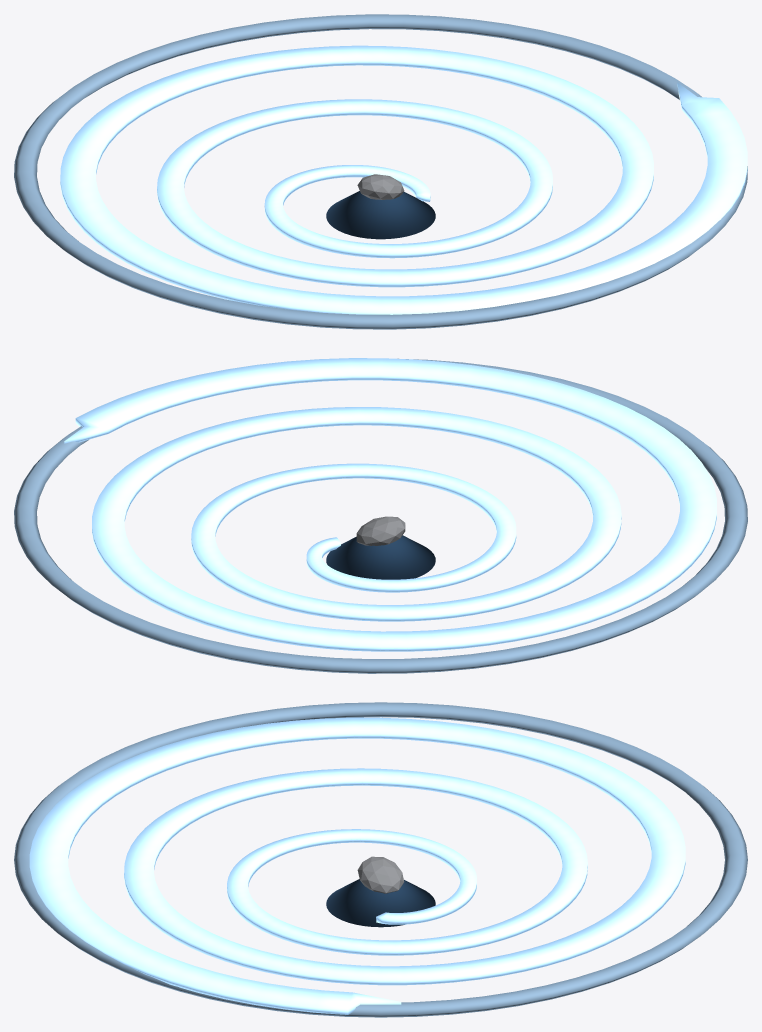
File: whirlpool_warning.glb
The picture shows the model from 3 angles, top to bottom: view 1: azimuth 30°, elevation 25°; view 2: azimuth 150°, elevation 25°; view 3: azimuth 270°, elevation 25°; orthographic projection.
Parts seen in each view (by area): view 1: whirlpool_spiral, whirlpool_rim, whirlpool_centre, whirlpool_stone; view 2: whirlpool_spiral, whirlpool_rim, whirlpool_centre, whirlpool_stone; view 3: whirlpool_spiral, whirlpool_rim, whirlpool_centre, whirlpool_stone.
Part boxes in pixels (left/top/right/bottom): whirlpool_spiral: left=60, top=45, right=747, bottom=314; whirlpool_rim: left=14, top=14, right=747, bottom=329; whirlpool_centre: left=326, top=191, right=435, bottom=239; whirlpool_stone: left=357, top=174, right=404, bottom=199; whirlpool_spiral: left=64, top=358, right=716, bottom=651; whirlpool_rim: left=14, top=358, right=747, bottom=673; whirlpool_centre: left=326, top=535, right=435, bottom=579; whirlpool_stone: left=356, top=516, right=405, bottom=545; whirlpool_spiral: left=29, top=717, right=685, bottom=1014; whirlpool_rim: left=14, top=702, right=747, bottom=1017; whirlpool_centre: left=326, top=879, right=435, bottom=927; whirlpool_stone: left=357, top=856, right=404, bottom=893.
Size of the model in its own units: 8.35 by 0.645 by 8.3.
